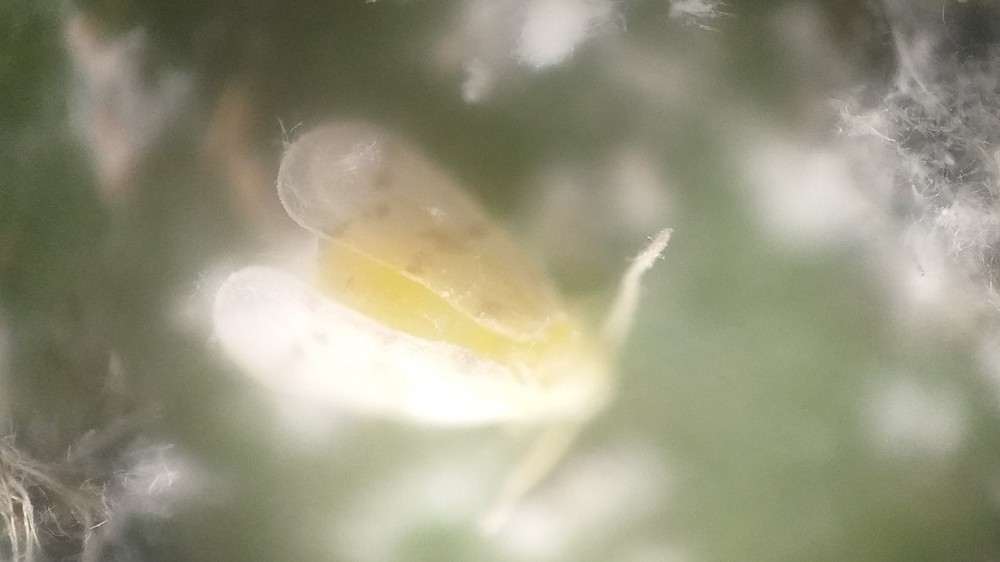Mosca Blanca: (198, 117, 723, 533)
